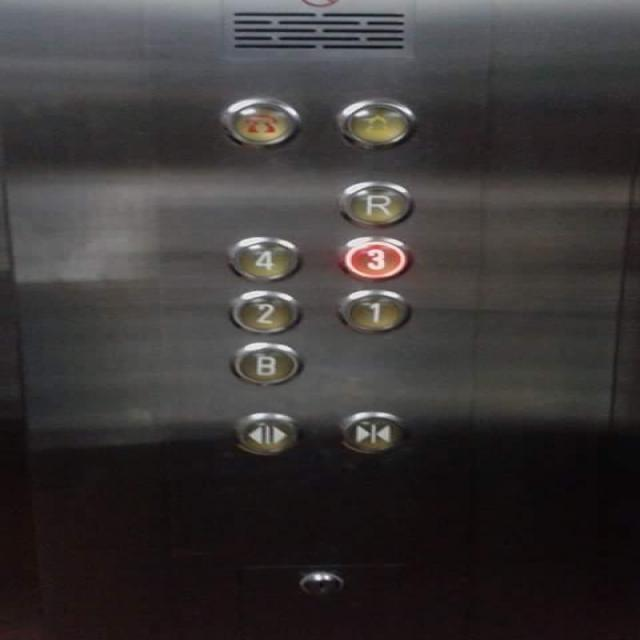1: (328, 283, 417, 337)
2: (219, 284, 308, 338)
3: (329, 230, 419, 283)
4: (217, 231, 307, 285)
B: (219, 336, 308, 390)
R: (329, 176, 419, 230)
alarm: (326, 94, 422, 150)
call: (213, 94, 310, 150)
close: (328, 407, 409, 456)
keyhole: (280, 559, 361, 608)
open: (224, 408, 305, 457)
